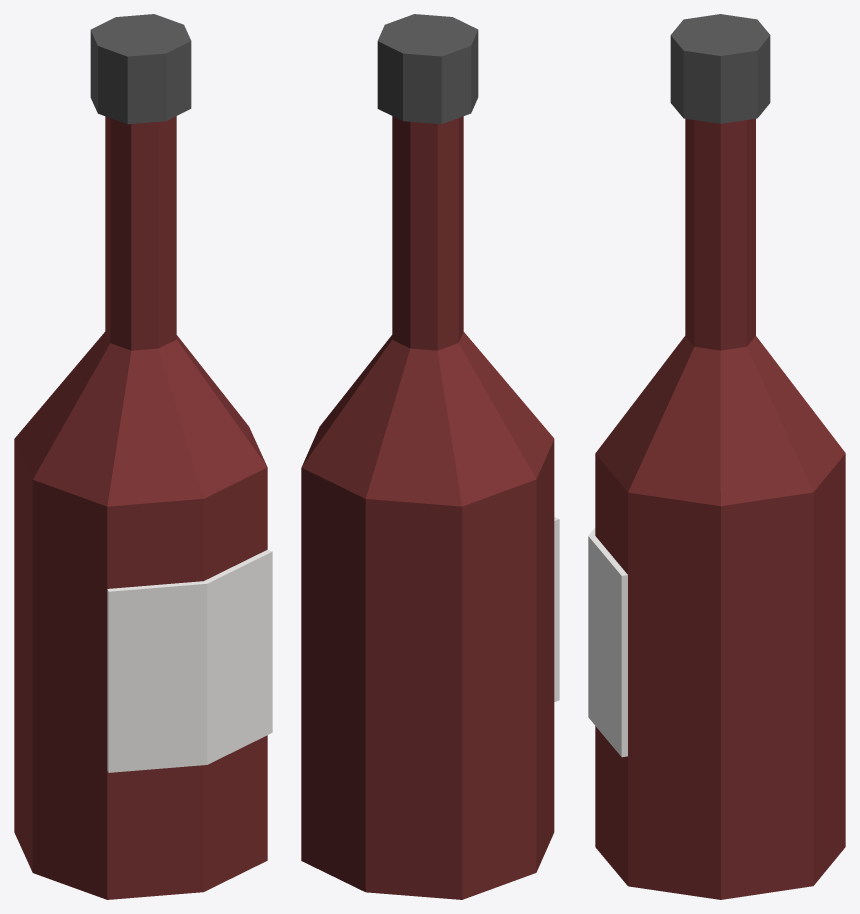
The model's file is Wine_Bottle_2.fbx.
3 renders of one model, left to right at view 1: azimuth 30°, elevation 25°; view 2: azimuth 150°, elevation 25°; view 3: azimuth 270°, elevation 25°, orthographic.
Parts seen in each view (by area): view 1: Wine_Bottle_2; view 2: Wine_Bottle_2; view 3: Wine_Bottle_2.
Boxes of the visible parts, x1=… form: Wine_Bottle_2: x1=14, y1=14, x2=272, y2=899; Wine_Bottle_2: x1=301, y1=14, x2=559, y2=899; Wine_Bottle_2: x1=588, y1=14, x2=845, y2=899.
Bounding box in the file's own units: 15.58 × 16.02 × 55.73.
